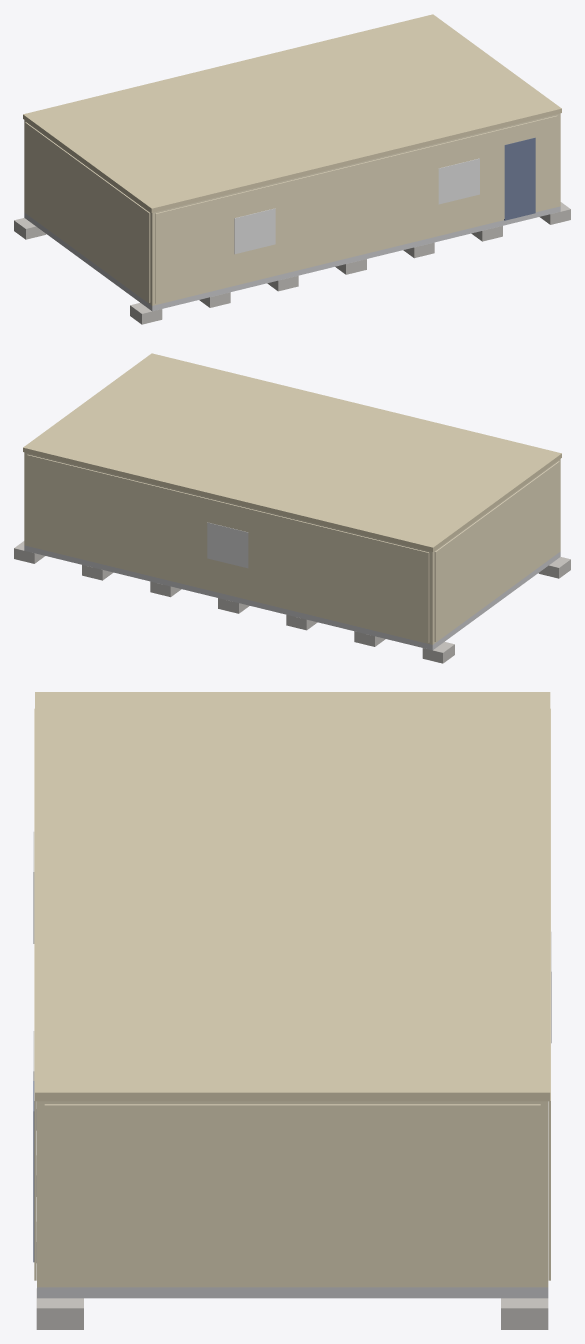
File: Studio-40-Base-MicroGrainYellowSlate-LOD2.glb
3 views of the same model, one above another, from view 1: azimuth 30°, elevation 25°; view 2: azimuth 150°, elevation 25°; view 3: azimuth 270°, elevation 25° (orthographic). The views are drawn at different scales.
Visible parts, largest first — view 1: RoofMain, ExteriorPanelsStandard, BaseFrame, WindowsStandard, ExteriorShell, FoundationBlocks, EntryDoor; view 2: RoofMain, ExteriorPanelsStandard, BaseFrame, ExteriorShell, FoundationBlocks, WindowsStandard; view 3: RoofMain, ExteriorPanelsStandard, ExteriorShell, BaseFrame, FoundationBlocks.
Boxes of the visible parts, x1=… form: RoofMain: x1=23, y1=14, x2=561, y2=212; ExteriorPanelsStandard: x1=25, y1=115, x2=557, y2=303; BaseFrame: x1=24, y1=206, x2=560, y2=311; WindowsStandard: x1=234, y1=158, x2=479, y2=254; ExteriorShell: x1=24, y1=113, x2=560, y2=305; FoundationBlocks: x1=14, y1=202, x2=570, y2=324; EntryDoor: x1=504, y1=137, x2=535, y2=220; RoofMain: x1=23, y1=353, x2=561, y2=551; ExteriorPanelsStandard: x1=27, y1=454, x2=559, y2=642; BaseFrame: x1=24, y1=545, x2=560, y2=650; ExteriorShell: x1=24, y1=452, x2=560, y2=644; FoundationBlocks: x1=14, y1=541, x2=570, y2=663; WindowsStandard: x1=207, y1=522, x2=248, y2=568; RoofMain: x1=35, y1=692, x2=550, y2=1101; ExteriorPanelsStandard: x1=34, y1=708, x2=550, y2=1284; ExteriorShell: x1=37, y1=1101, x2=548, y2=1287; BaseFrame: x1=37, y1=1287, x2=548, y2=1298; FoundationBlocks: x1=36, y1=1101, x2=548, y2=1329.
Size of the model in its own units: 12.49 by 3.17 by 6.53.
